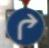turn: (6, 6, 43, 43)
